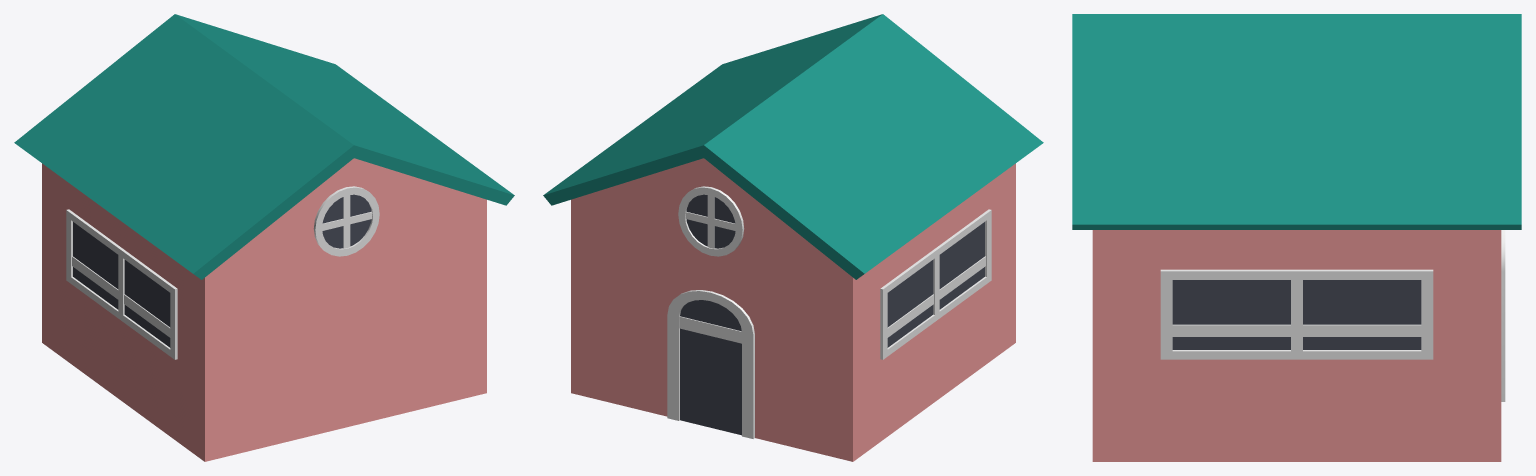
The model's file is house-1.fbx.
3 renders of one model, left to right at view 1: azimuth 30°, elevation 25°; view 2: azimuth 150°, elevation 25°; view 3: azimuth 270°, elevation 25°, orthographic. The views are drawn at different scales.
Visible parts, largest first — view 1: block_0, roof_2, window_width_9, window_round_detail_4; view 2: roof_2, block_0, door_rounded_7, window_width_9, window_round_detail_6; view 3: roof_2, block_0, window_width_8, door_rounded_7.
Boxes of the visible parts, x1=… form: block_0: x1=42, y1=163, x2=486, y2=461; roof_2: x1=14, y1=14, x2=514, y2=279; window_width_9: x1=66, y1=209, x2=177, y2=359; window_round_detail_4: x1=313, y1=186, x2=379, y2=256; roof_2: x1=543, y1=14, x2=1043, y2=279; block_0: x1=571, y1=163, x2=1015, y2=461; door_rounded_7: x1=667, y1=290, x2=754, y2=438; window_width_9: x1=880, y1=209, x2=991, y2=359; window_round_detail_6: x1=678, y1=186, x2=744, y2=256; roof_2: x1=1072, y1=14, x2=1521, y2=229; block_0: x1=1092, y1=230, x2=1501, y2=461; window_width_8: x1=1160, y1=269, x2=1433, y2=359; door_rounded_7: x1=1501, y1=230, x2=1505, y2=401.
Size of the model in its own units: 34.2 by 29.3 by 33.
